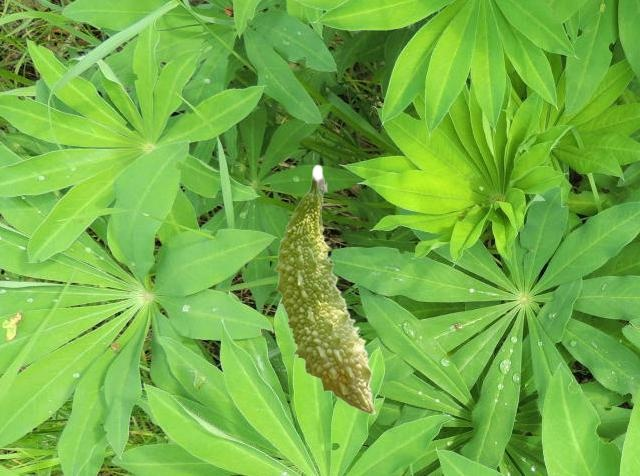ampalaya: (273, 164, 376, 415)
